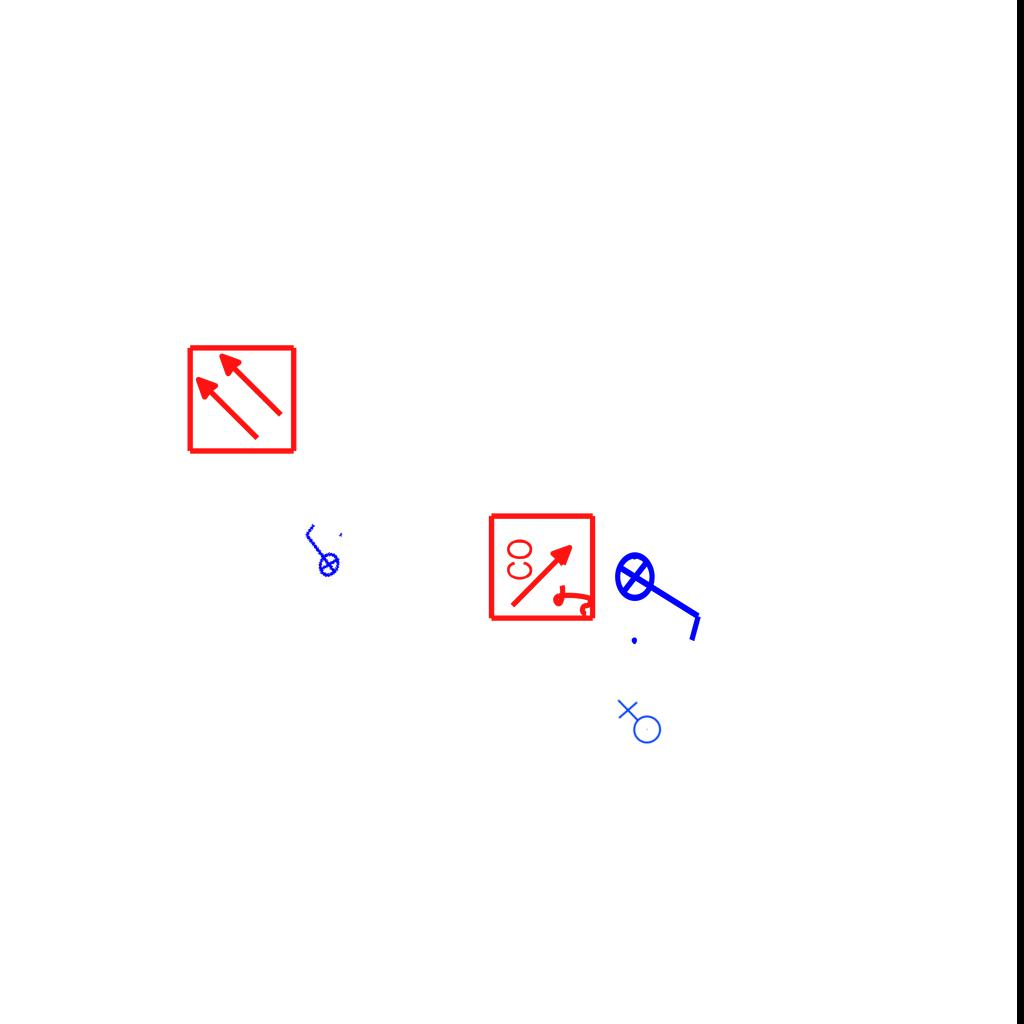Ausschalter_beleuchtet: (613, 538, 709, 650), (287, 517, 353, 587)
Elektroanschluss_allgemein_230V_Geraeteanschlussdose_230V: (615, 699, 662, 748)
RMO_Rauchmelder_optischer: (185, 343, 298, 456)
ROA_Rauchmelder_optisch_mit_Signalgeber_(Sockelsirene): (487, 510, 600, 623)
